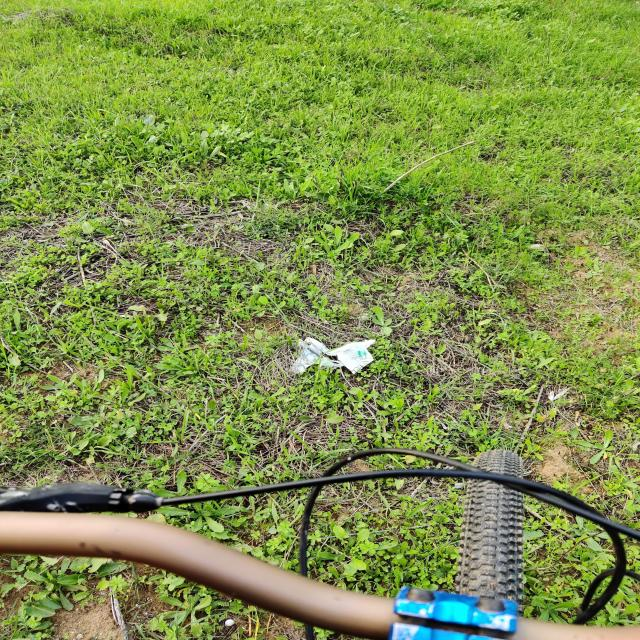litter: (280, 330, 378, 380)
